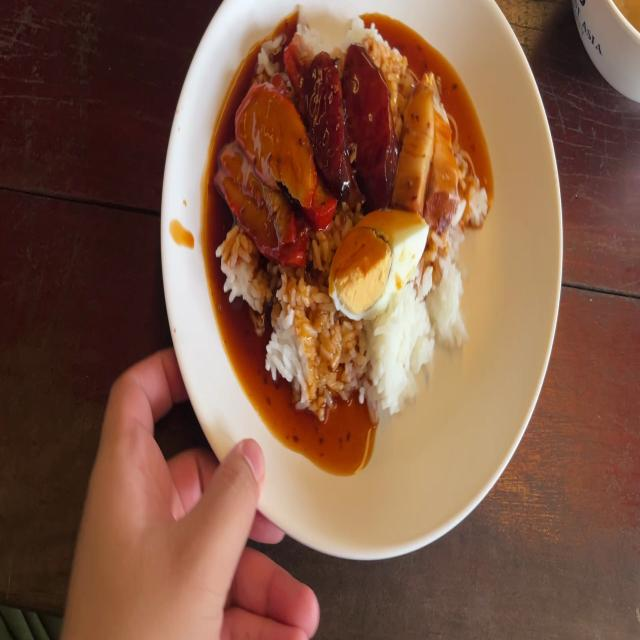red_pork_and_crispy_pork: (328, 207, 432, 320)
stir_fried_basil: (316, 48, 390, 190)
